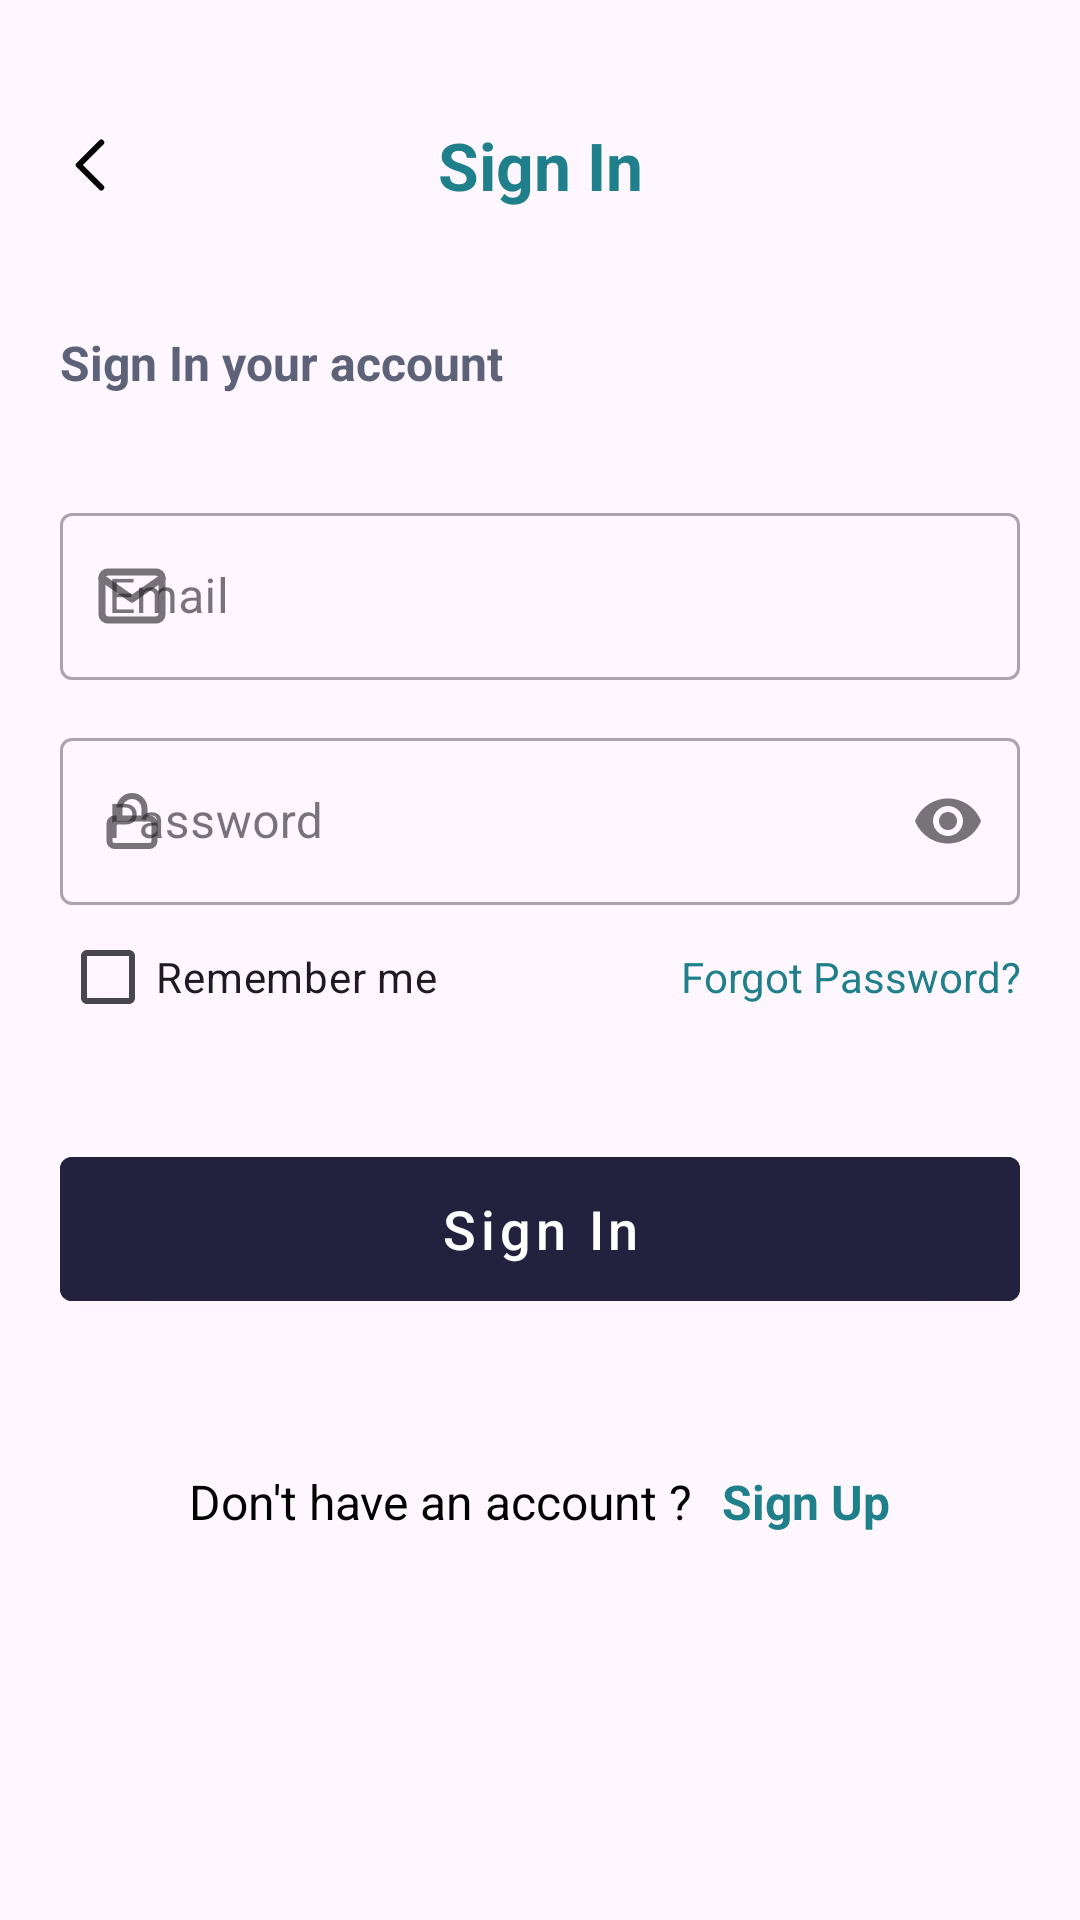

Where to tap for icons on this 1080x1920 app screen, as (x,y):
back: (90,165)
